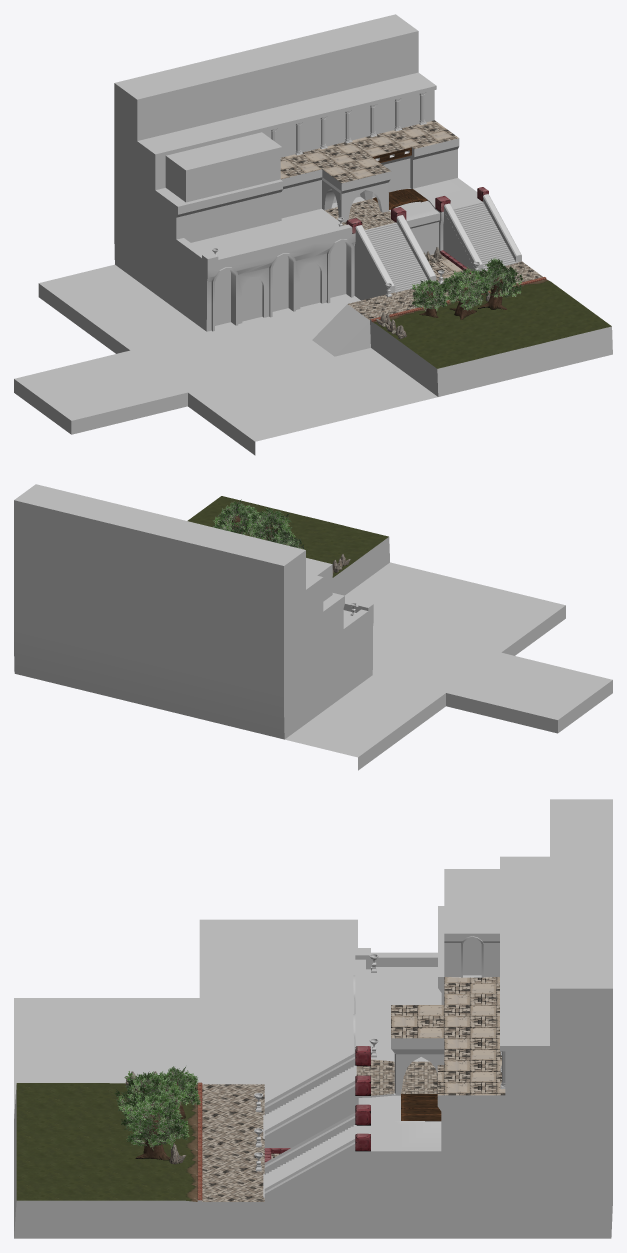
The model's file is EppDara_GardenTemple 3.fbx.
3 renders of one model, top to bottom at view 1: azimuth 30°, elevation 25°; view 2: azimuth 150°, elevation 25°; view 3: azimuth 270°, elevation 25°, orthographic. The views are drawn at different scales.
Visible parts, largest first — view 1: Cube, Cube.013, Cube.014, Cylinder.002, Cylinder, Cylinder.001, Cylinder.003; view 2: Cube, Cylinder.002, Cylinder; view 3: Cube, Cylinder, Cylinder.002, Cube.013, Cube.014, Cylinder.003.
Boxes of the visible parts, x1,y1,x2,y2 form: Cube: (14,14,612,455); Cube.013: (365,222,427,292); Cube.014: (453,201,517,270); Cylinder.002: (440,266,490,319); Cylinder: (473,257,523,309); Cylinder.001: (271,92,426,155); Cylinder.003: (411,279,447,317); Cube: (14,484,612,770); Cylinder.002: (245,507,291,541); Cylinder: (213,499,262,534); Cube: (14,799,612,1238); Cylinder: (121,1092,189,1160); Cylinder.002: (114,1071,188,1130); Cube.013: (263,1065,356,1138); Cube.014: (263,1125,356,1197); Cylinder.003: (162,1066,200,1124).
Size of the model in its own units: 2365 by 930 by 1876.
